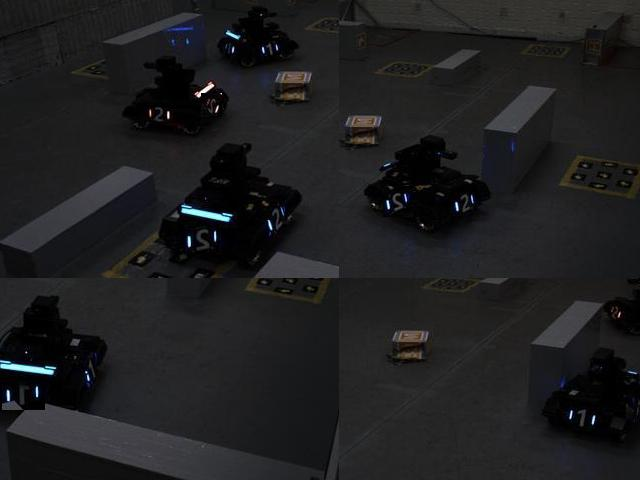armor: (2, 379, 46, 411), (185, 225, 222, 255), (259, 203, 292, 236), (563, 404, 600, 433), (383, 186, 414, 218), (81, 354, 102, 390), (145, 99, 172, 125), (453, 189, 477, 216), (202, 93, 224, 118), (256, 39, 281, 58), (220, 37, 238, 59), (626, 397, 639, 422)
